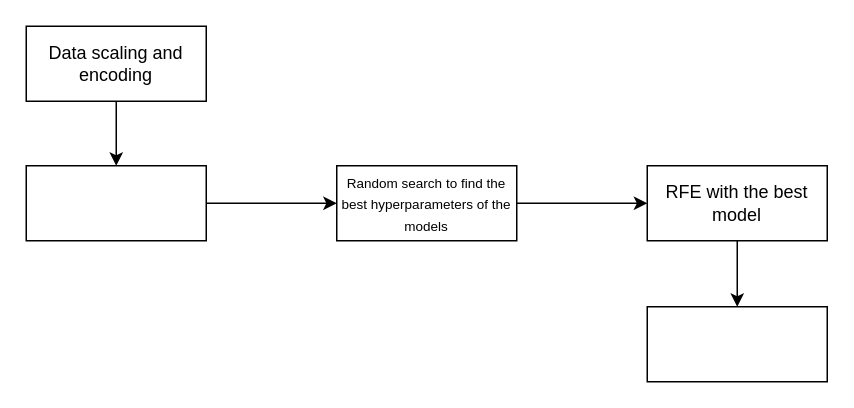
Image size: 854x408. Some labels were removed from this diagram. Here are the shapes that lost their labels. From the top down, the centre of each, then its label:
point 115,202: Baseline fitting and evaluation
point 736,343: Predictions on the test set
